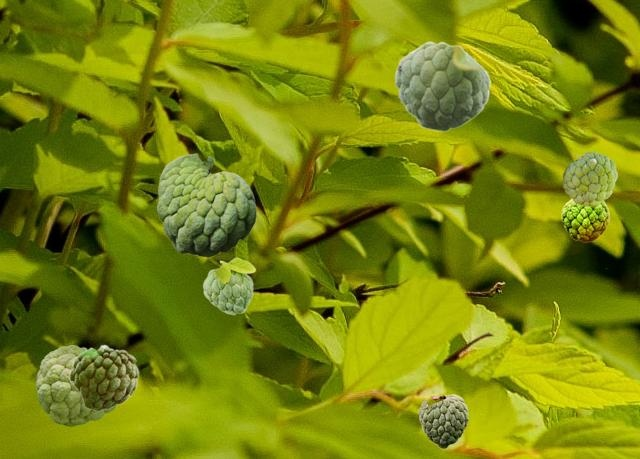atis: (157, 153, 255, 256), (394, 41, 490, 130), (36, 345, 115, 425), (68, 344, 138, 410), (202, 257, 255, 314), (562, 152, 616, 205), (418, 394, 467, 447), (561, 198, 608, 241)
